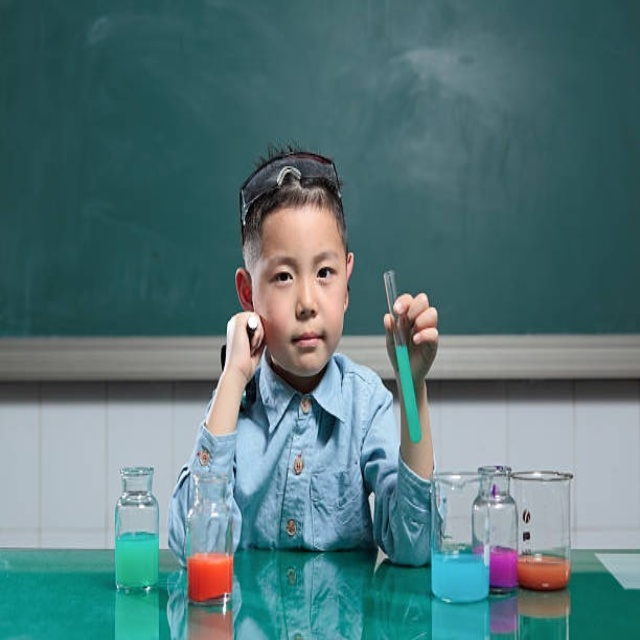Sin_gafas: (260, 243, 344, 292)
Sin_guantes: (382, 288, 439, 390), (222, 309, 269, 380)
Sin_mascara: (283, 318, 332, 365)
